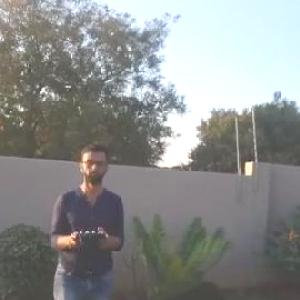follow: (43, 134, 131, 299)
